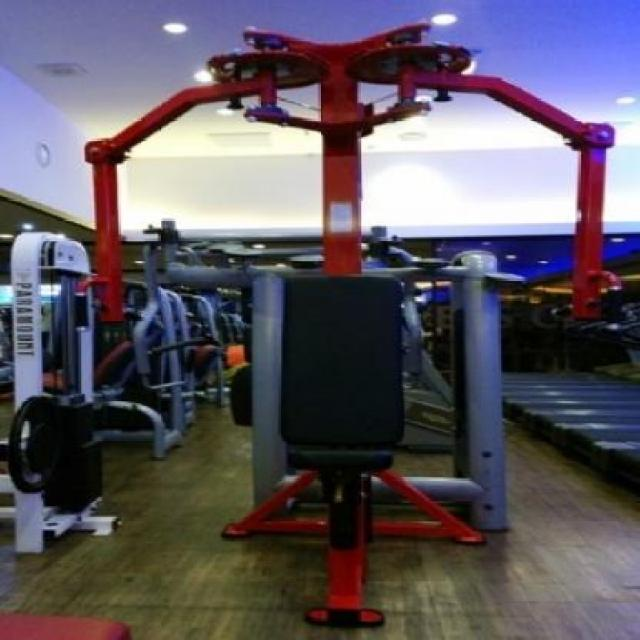chest fly machine: (63, 17, 628, 640)
